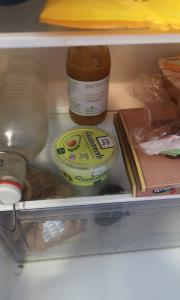Guacamole: (50, 125, 120, 188)
